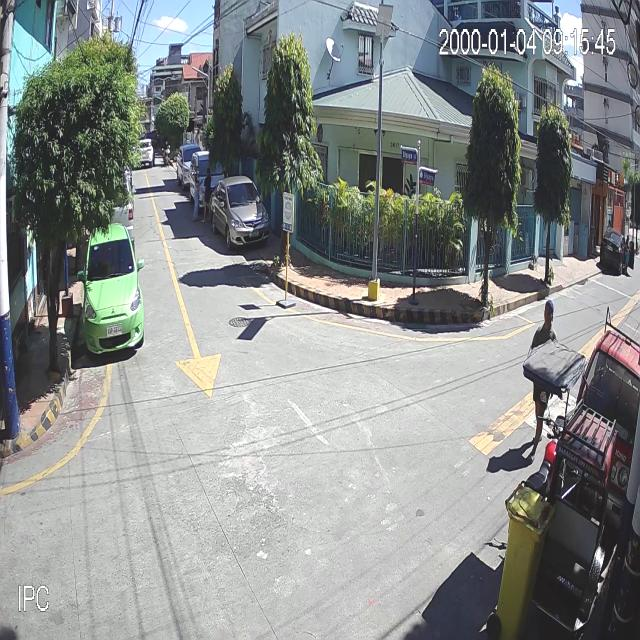walking: (526, 299, 559, 460)
